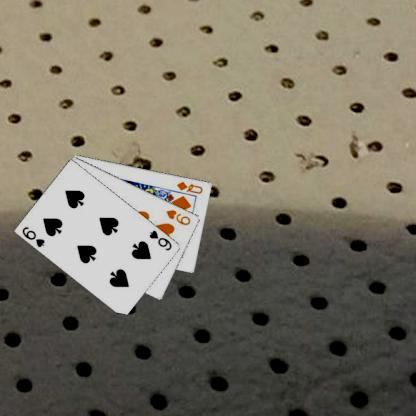6S: (146, 227, 174, 252), (19, 224, 46, 248)
9H: (164, 206, 192, 226)
QD: (174, 178, 204, 195)
